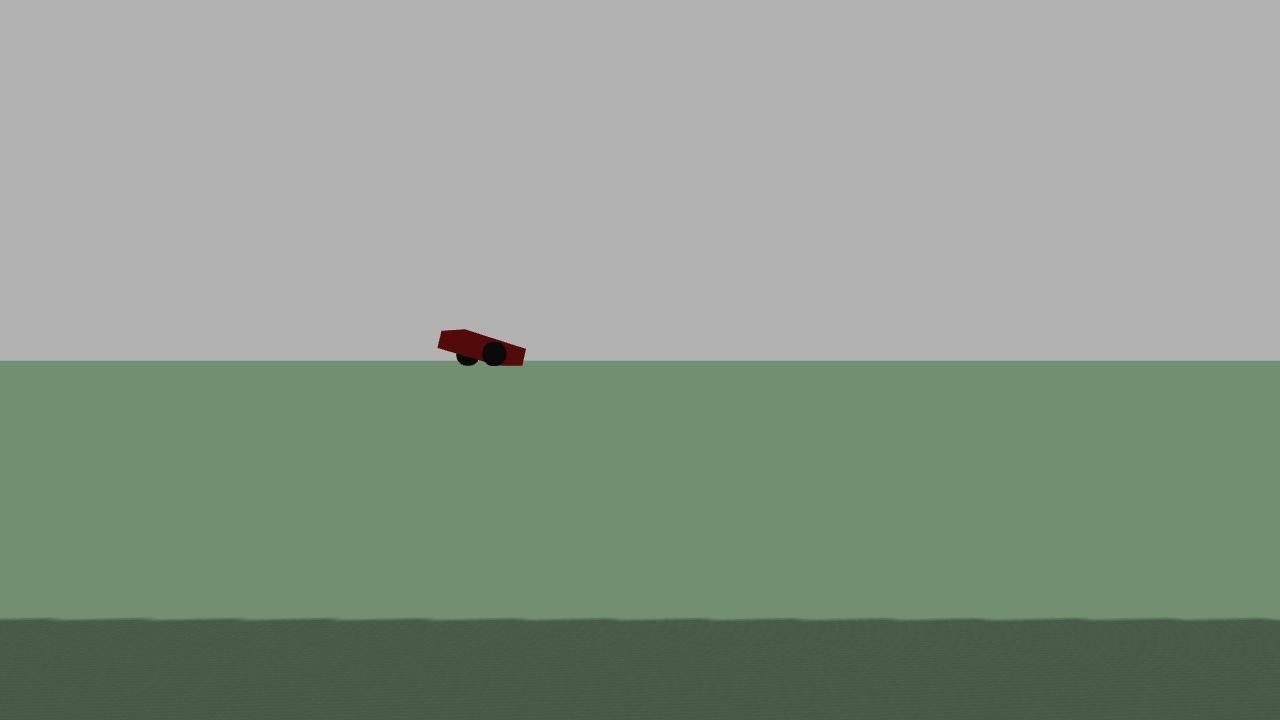ground_vehicle: (431, 312, 541, 377)
